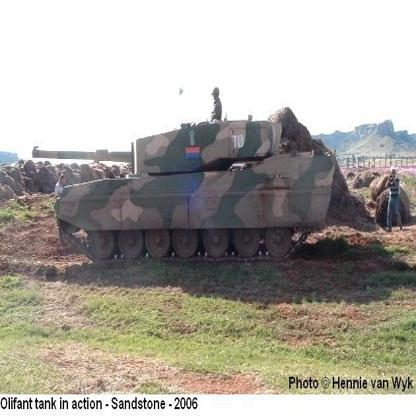Tank: (19, 110, 362, 295)
